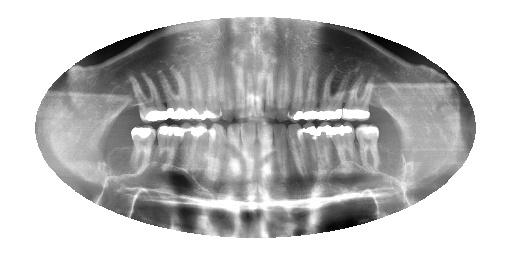i10healthy: (225, 116, 241, 183)
i11healthy: (207, 118, 226, 184)
i12healthy: (177, 119, 210, 187)
i13healthy: (151, 119, 185, 184)
i14healthy: (127, 121, 158, 183)
i2healthy: (353, 119, 382, 175)
i3healthy: (328, 120, 362, 177)
i4healthy: (315, 119, 335, 177)
i5healthy: (298, 118, 321, 180)
i6healthy: (284, 117, 313, 181)
i7healthy: (272, 121, 290, 184)
i8healthy: (256, 119, 278, 191)
i9healthy: (240, 121, 260, 185)
u10healthy: (232, 62, 248, 121)
u11healthy: (219, 58, 235, 124)
u12healthy: (205, 60, 226, 122)
u13healthy: (187, 64, 205, 124)
u14healthy: (156, 62, 194, 122)
u15healthy: (127, 69, 173, 125)
u2healthy: (341, 66, 376, 125)
u3healthy: (316, 65, 349, 124)
u4healthy: (304, 65, 320, 124)
u5healthy: (286, 61, 306, 123)
u6healthy: (273, 60, 293, 124)
u7healthy: (263, 60, 279, 121)
u8healthy: (252, 59, 266, 122)
u9healthy: (243, 62, 255, 122)
